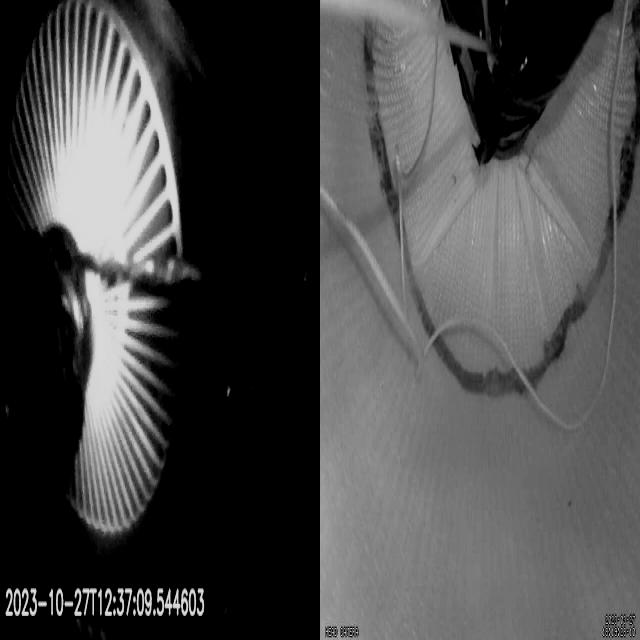red-circle: (362, 1, 640, 400)
